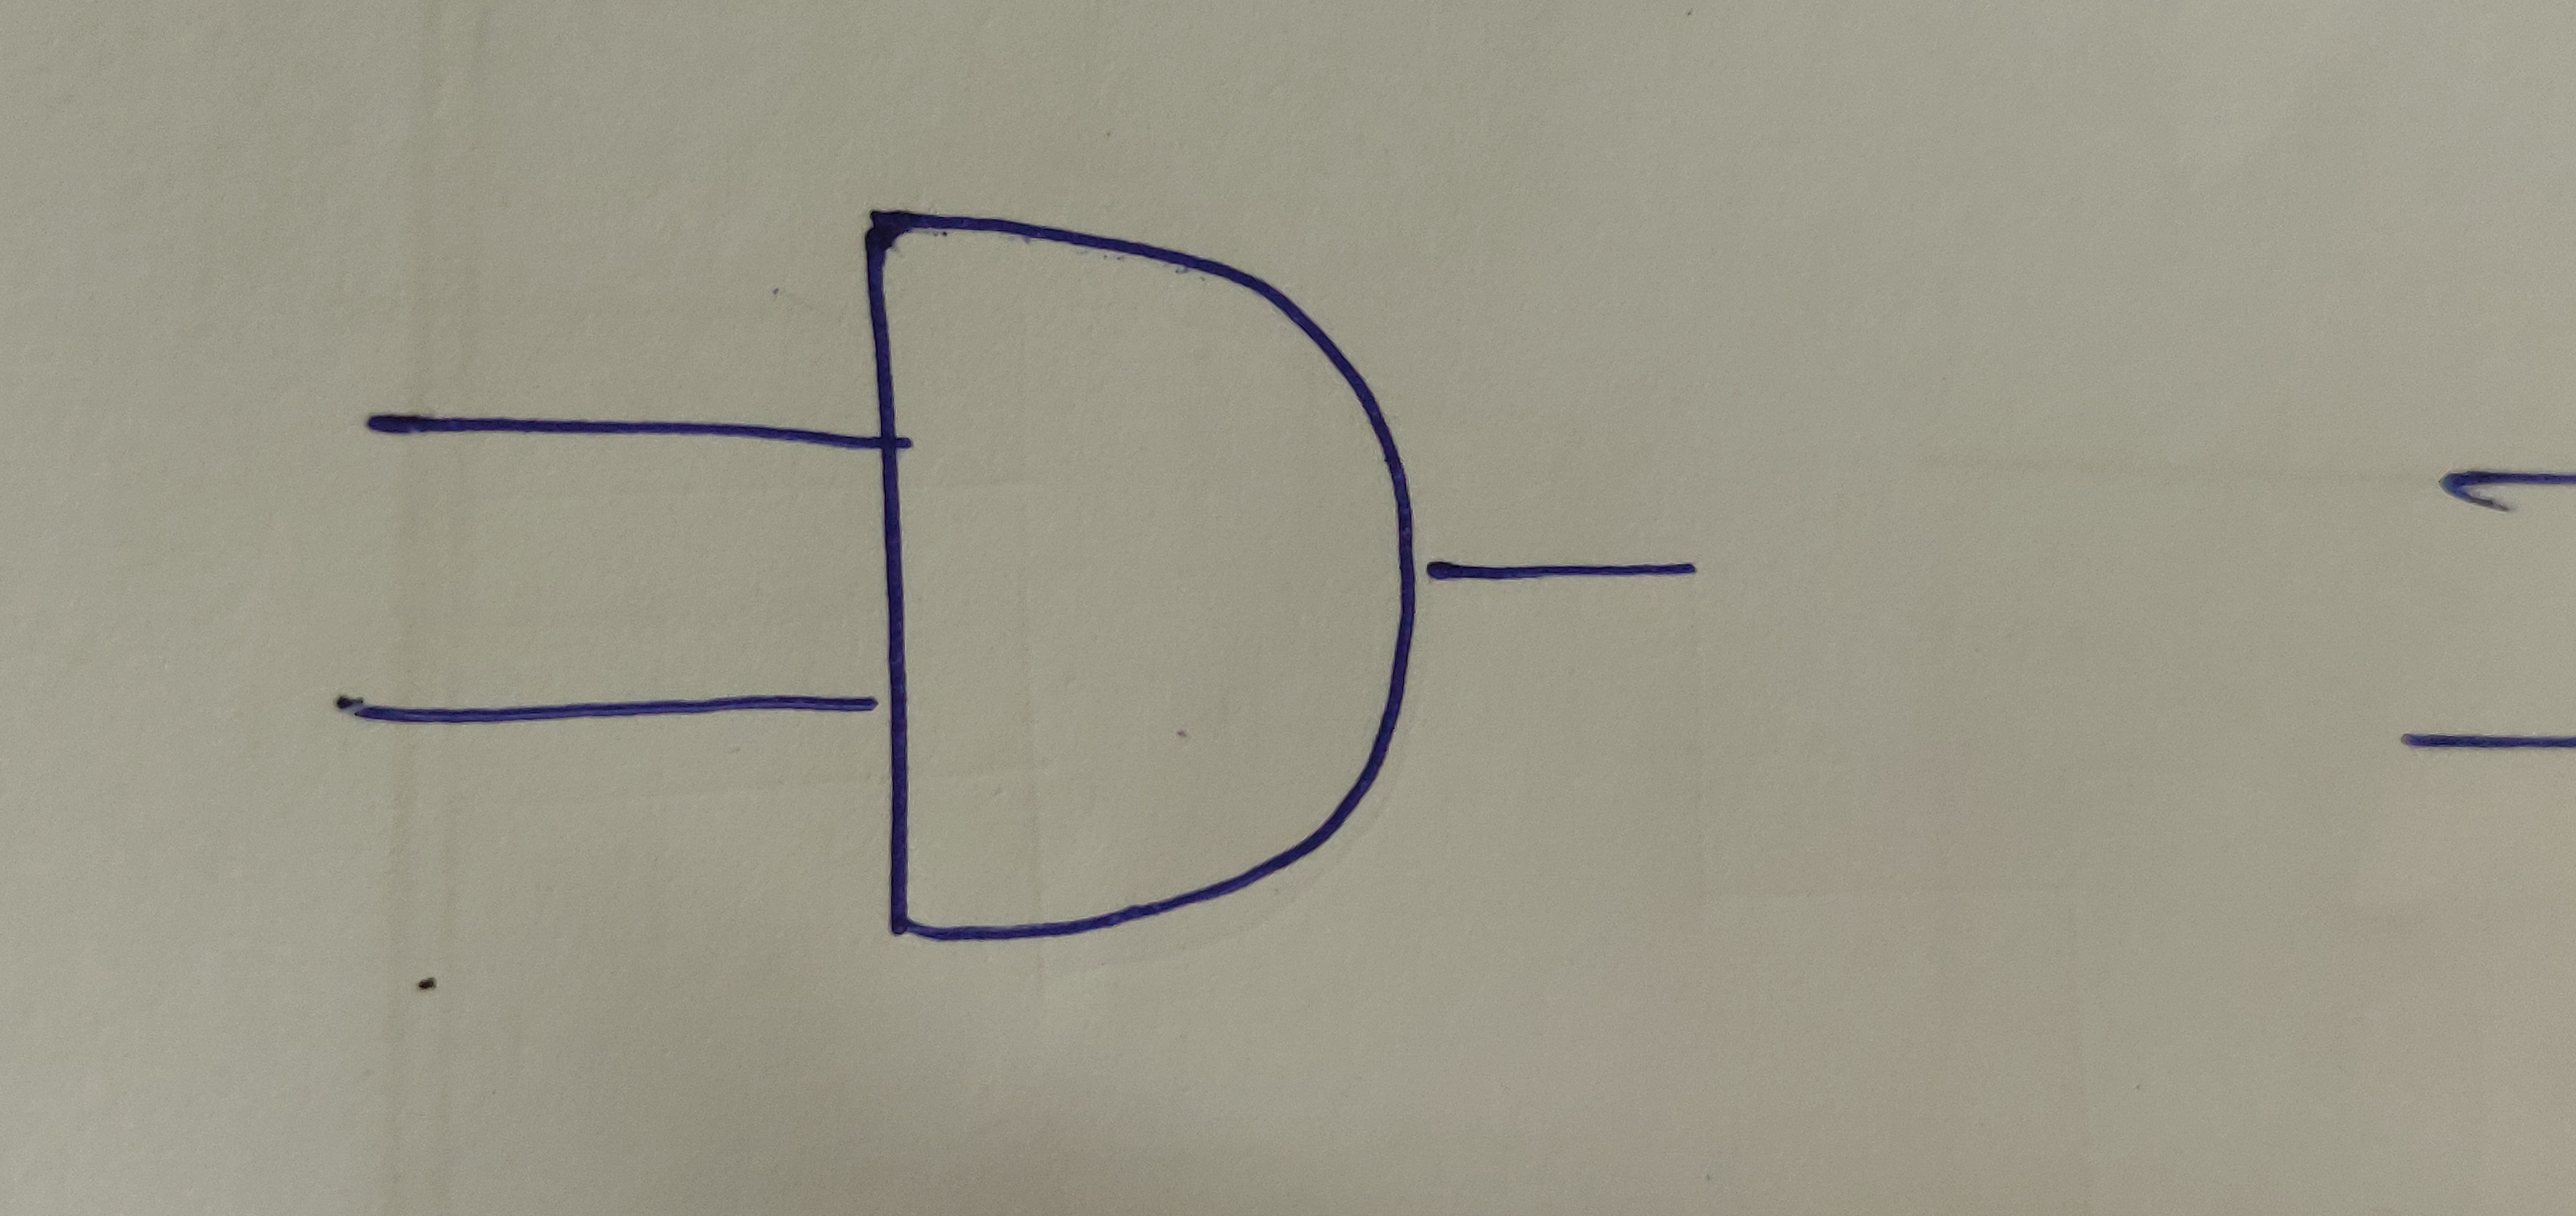and: (858, 205, 1419, 945)
